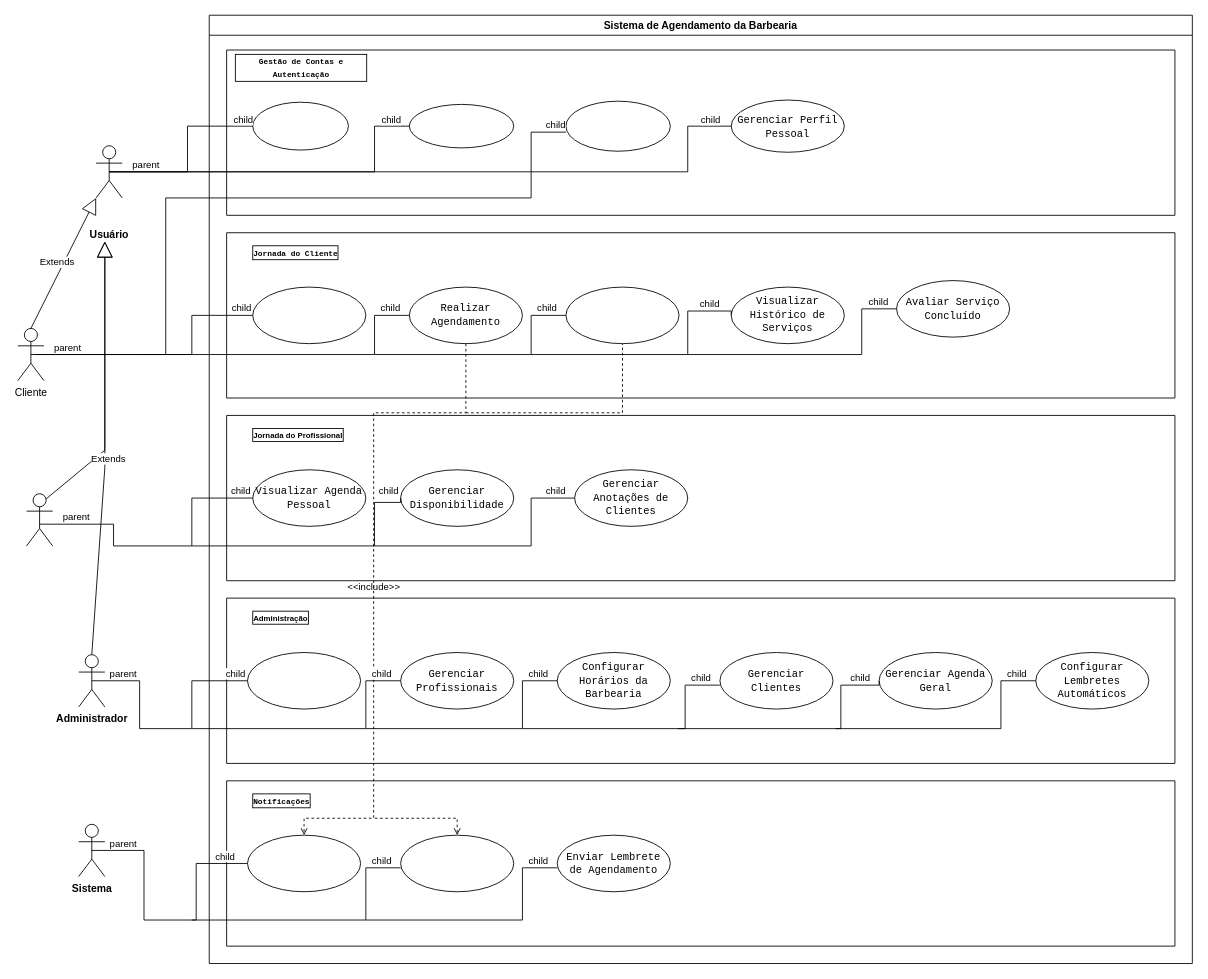
The diagram is 1208 pixels wide and 979 high, and some of its shapes have lost their labels. The shapes that lost their labels are listed below. From the top down, each one's centre as x and y in pixels, then its label:
At (300,125): "Fazer Login".
At (461,126): "Recuperar Senha".
At (617,125): "Cadastrar-se no Sistema".
At (309,315): "Buscar Horários Disponíveis".
At (622,315): "Gerenciar Próprios Agendamentos".
At (39,519): "Barbeiro".
At (304,680): "Gerenciar Serviços".
At (304,863): "Enviar Confirmação de Agendamento".
At (457,863): "Notificar Barbeiro sobre Mudança".
